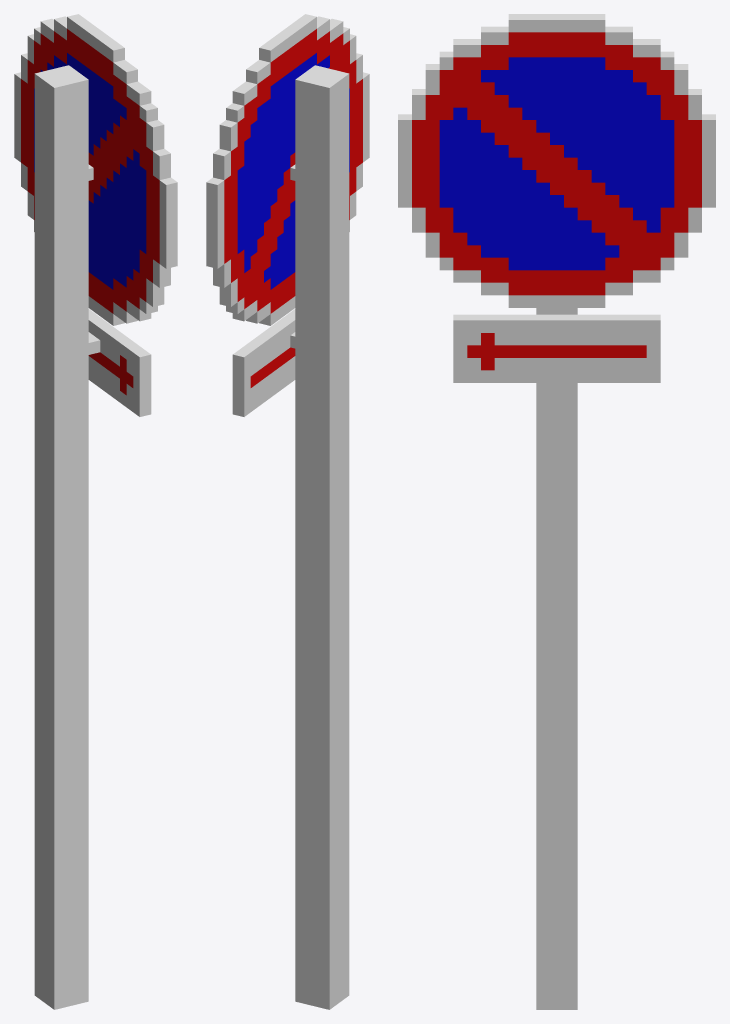
File: Mark.fbx
The picture shows the model from 3 angles, left to right: view 1: azimuth 30°, elevation 25°; view 2: azimuth 150°, elevation 25°; view 3: azimuth 270°, elevation 25°; orthographic projection. The views are drawn at different scales.
Parts seen in each view (by area): view 1: mark1; view 2: mark1; view 3: mark1.
Boxes of the visible parts, x1,y1,x2,y2 form: mark1: [14, 14, 177, 1009]; mark1: [206, 14, 369, 1009]; mark1: [398, 14, 715, 1009].
Bounding box in the file's own units: 500 × 8000 × 2300.
1 material, 1 textured.
